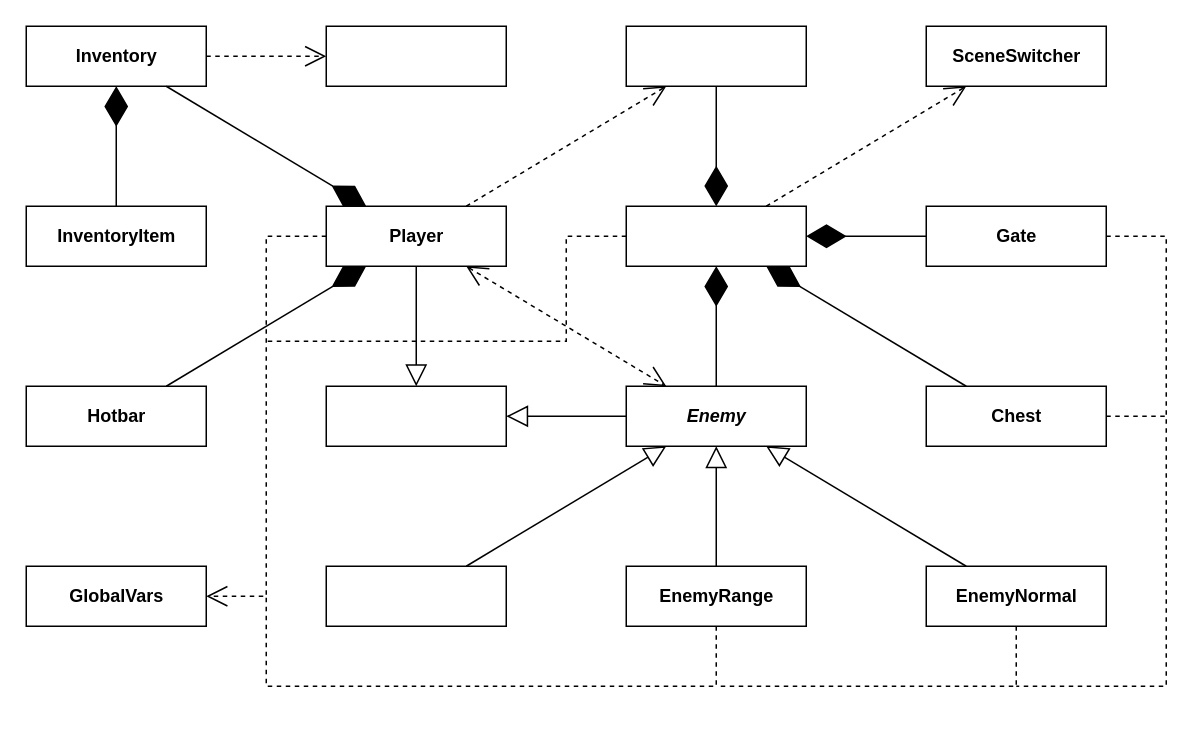
This 1194x734 diagram has some shape labels left out. Here are the shapes that lost their labels. From the top down, the box of each, then its label:
(325, 25, 506, 86): PlayerInventory
(625, 25, 806, 86): GroundItem
(625, 205, 806, 266): Level
(325, 385, 506, 446): Character
(325, 565, 506, 626): EnemyDash
